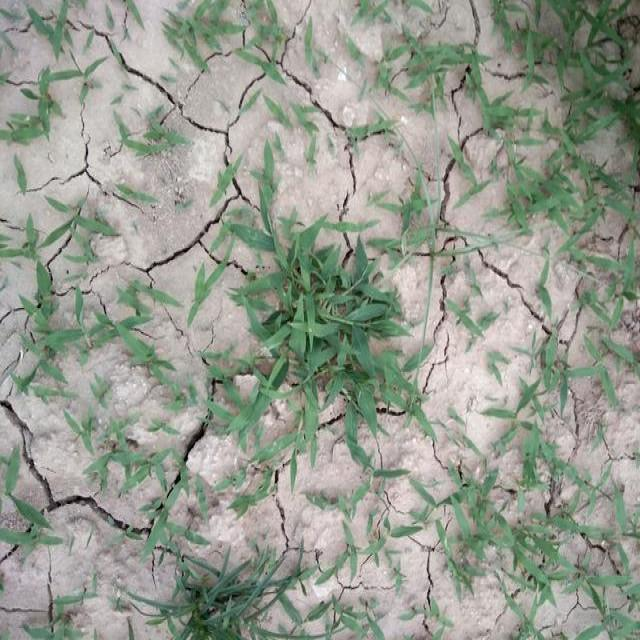weed: (227, 183, 410, 440), (18, 198, 185, 390), (493, 0, 639, 146), (146, 557, 300, 640), (426, 472, 524, 588)
